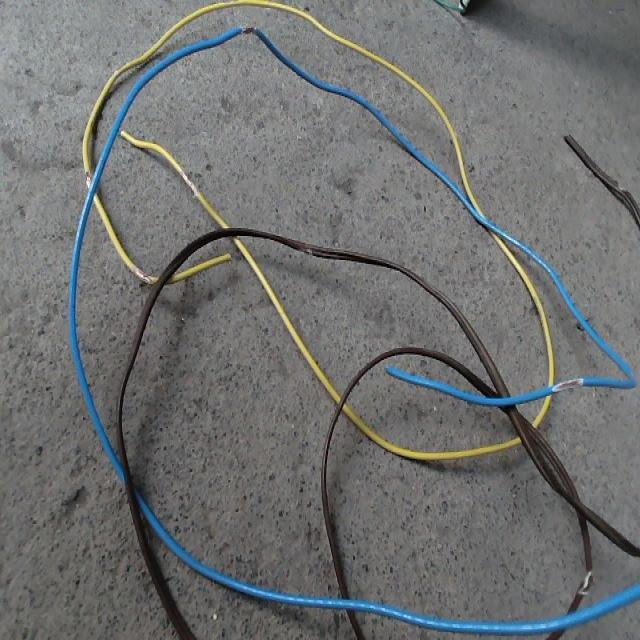-: (179, 168, 199, 195), (551, 376, 583, 391), (578, 568, 592, 593), (131, 266, 152, 282), (242, 24, 255, 32), (85, 168, 91, 181)
